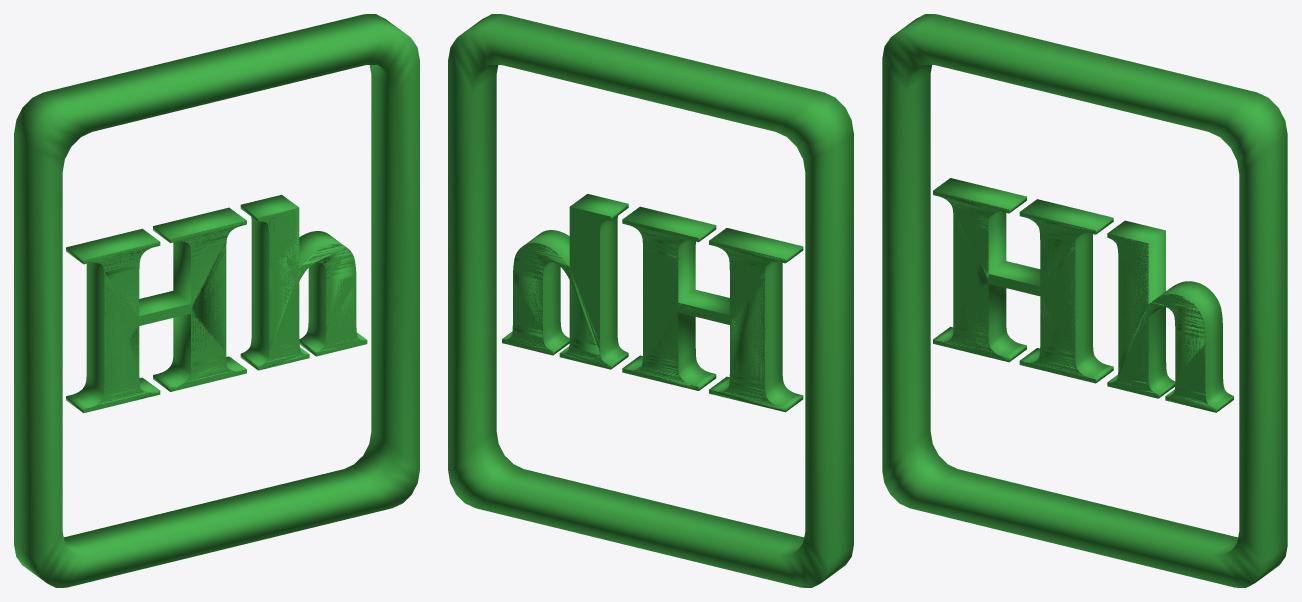
The model's file is Letter_H.gltf.
3 renders of one model, left to right at view 1: azimuth 30°, elevation 25°; view 2: azimuth 150°, elevation 25°; view 3: azimuth 330°, elevation 25°, orthographic.
Visible parts, largest first — view 1: Letters.009; view 2: Letters.009; view 3: Letters.009.
Part boxes in pixels (<box>): Letters.009: <box>14,14,419,587</box>; Letters.009: <box>448,14,853,587</box>; Letters.009: <box>882,14,1287,587</box>.
Bounding box in the file's own units: 1.25 × 1.49 × 0.1418.
